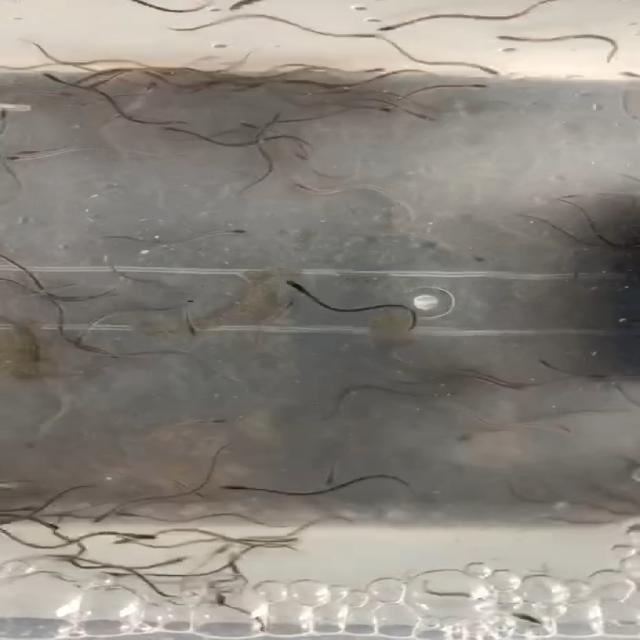active_glass_eel: (283, 174, 332, 203), (17, 516, 72, 538), (82, 311, 138, 331), (409, 224, 455, 248), (112, 525, 167, 544), (276, 273, 322, 295), (210, 224, 258, 245), (145, 350, 200, 368), (394, 109, 444, 128), (38, 555, 85, 575), (360, 17, 404, 38), (0, 150, 51, 168), (23, 65, 60, 89), (456, 60, 511, 76), (246, 307, 294, 325), (158, 551, 198, 572), (122, 492, 166, 511), (250, 108, 296, 126), (212, 482, 262, 498), (442, 9, 488, 26), (388, 384, 430, 402), (233, 542, 286, 556), (136, 120, 182, 136), (482, 29, 534, 43), (176, 320, 220, 336), (357, 62, 389, 82), (461, 80, 494, 97), (30, 375, 65, 387)
